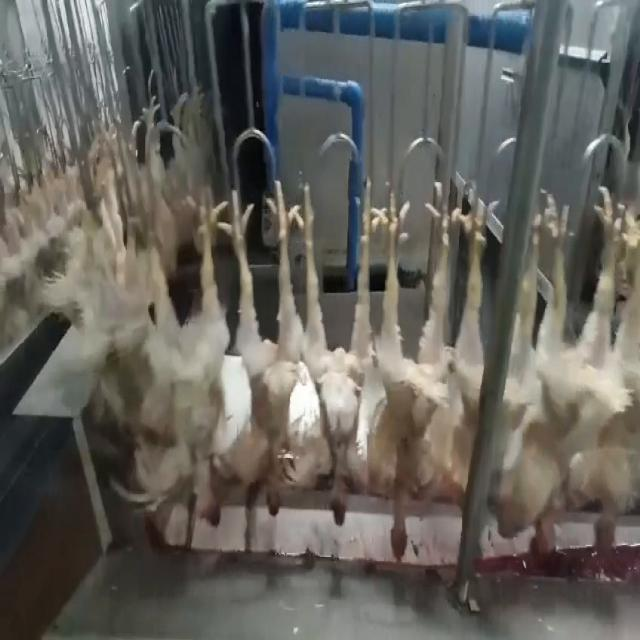chicken: (364, 165, 459, 566), (294, 172, 378, 528), (148, 189, 229, 524), (221, 176, 297, 521), (514, 183, 578, 568), (445, 170, 503, 528), (585, 213, 639, 564)
